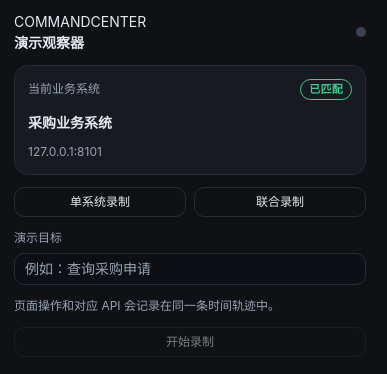
Test: CommandCenter popup › shows the selected system and requires an objective before recording
The image size is (387, 374).
Expected: the text "采购业务系统" is shown, [28,114,112,130]
Expected: the button "开始录制" is disabled, [14,326,366,356]
Type "查询采购申请" into the field labelled "演示目标". click: (190, 268)
box: [14,252,366,284]
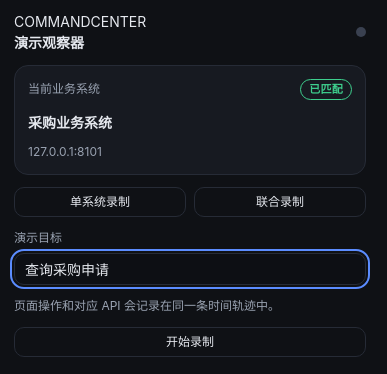
Now the button "开始录制" is enabled, box [14,326,366,356]
